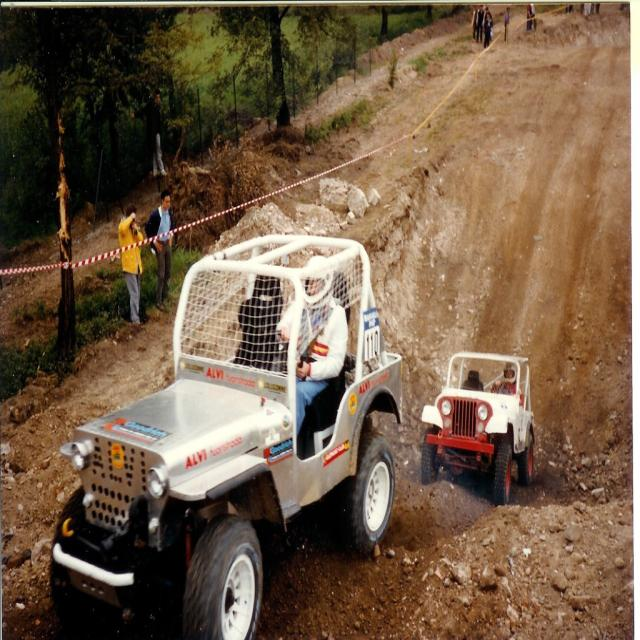car: (45, 226, 413, 638), (418, 347, 535, 510)
